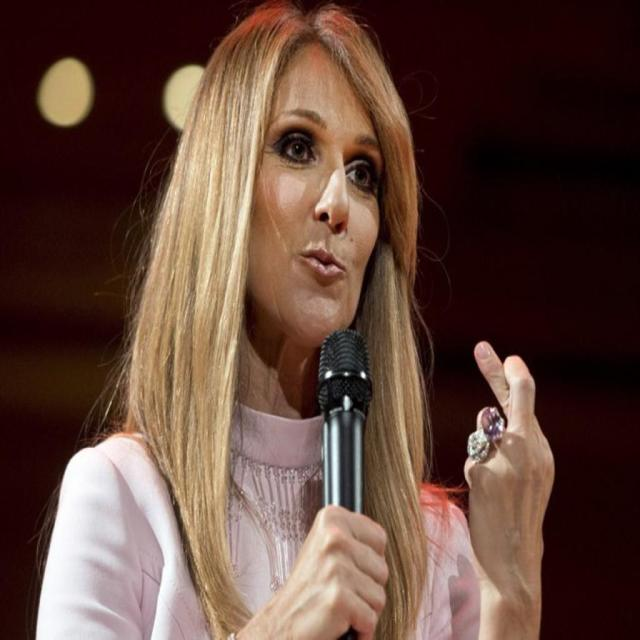Face: (240, 42, 407, 339)
